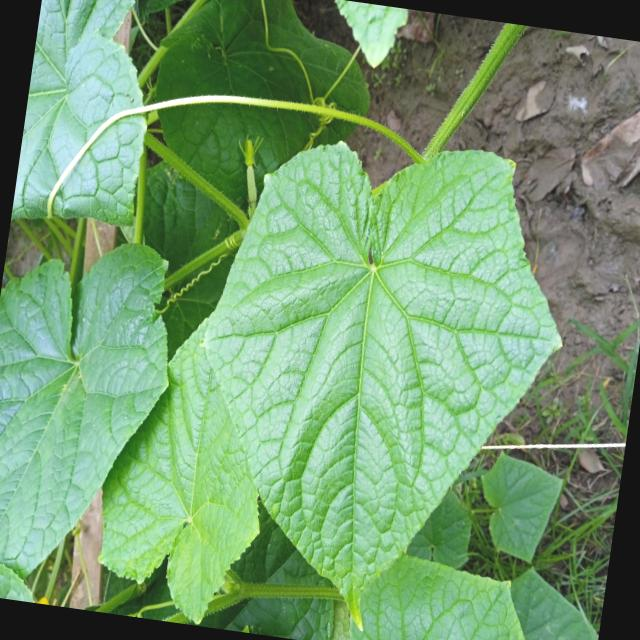cucumber_healthy: (162, 112, 592, 640), (0, 215, 192, 596), (85, 320, 292, 631), (10, 0, 173, 241), (469, 444, 574, 576)
